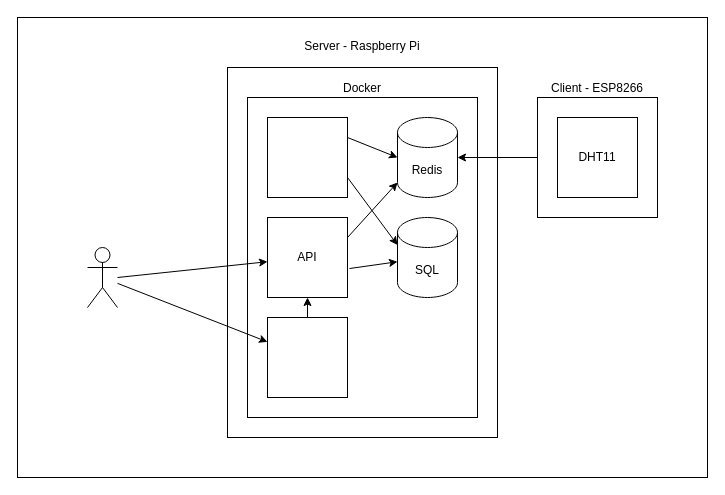
The diagram is 725 pixels wide and 495 high, and some of its shapes have lost their labels. Here are the shapes that lost their labels. From the top down, the centre of each, then its label:
At pixel 307 157: "Worker".
At pixel 102 277: "User".
At pixel 307 357: "App".
